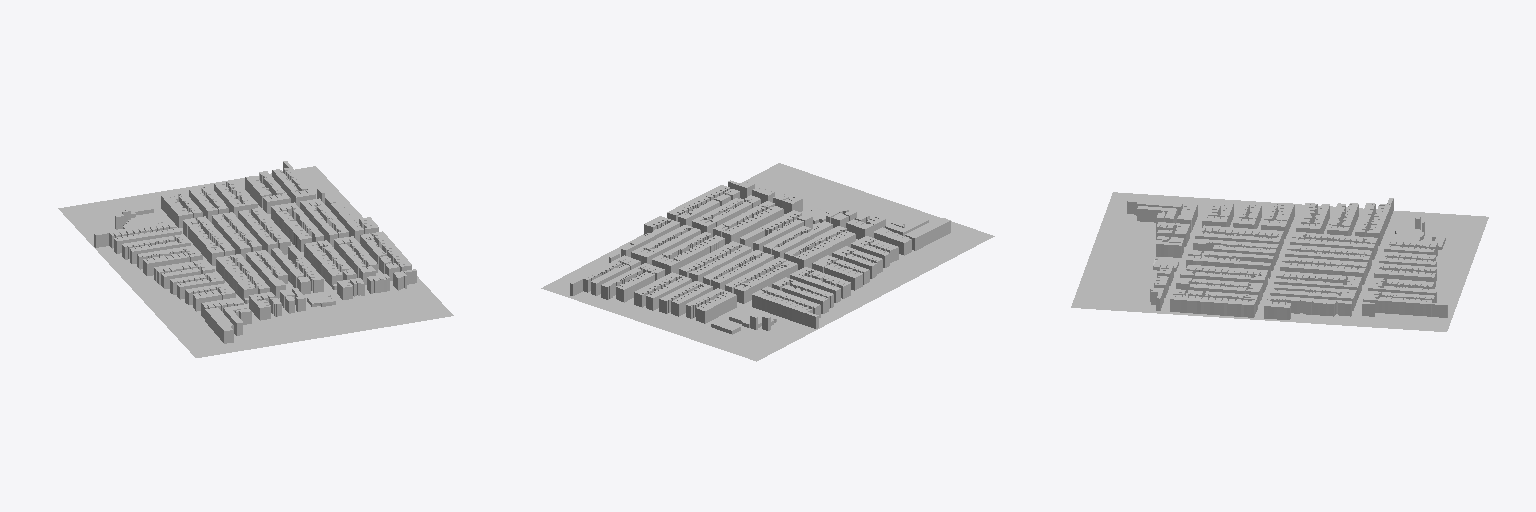
Rendered from philly.obj.
3 renders of one model, left to right at view 1: azimuth 30°, elevation 25°; view 2: azimuth 150°, elevation 25°; view 3: azimuth 270°, elevation 25°, orthographic.
Parts seen in each view (by area): view 1: Areas, Plane, Areas.002; view 2: Areas, Plane, Areas.002; view 3: Areas, Plane, Areas.002.
Boxes of the visible parts, box(x1,y1,x2,y2) form: Areas: box(94, 161, 416, 335); Plane: box(58, 166, 453, 357); Areas.002: box(205, 307, 233, 343); Areas: box(570, 180, 928, 349); Plane: box(541, 163, 994, 361); Areas.002: box(905, 218, 950, 250); Areas: box(1137, 198, 1447, 319); Plane: box(1071, 192, 1488, 331); Areas.002: box(1127, 197, 1182, 215).
Size of the model in its own units: 479 by 20 by 604.